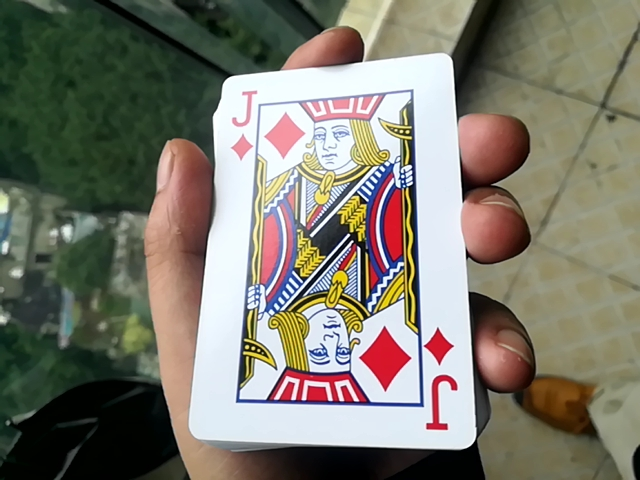fk j: (162, 62, 472, 451)
